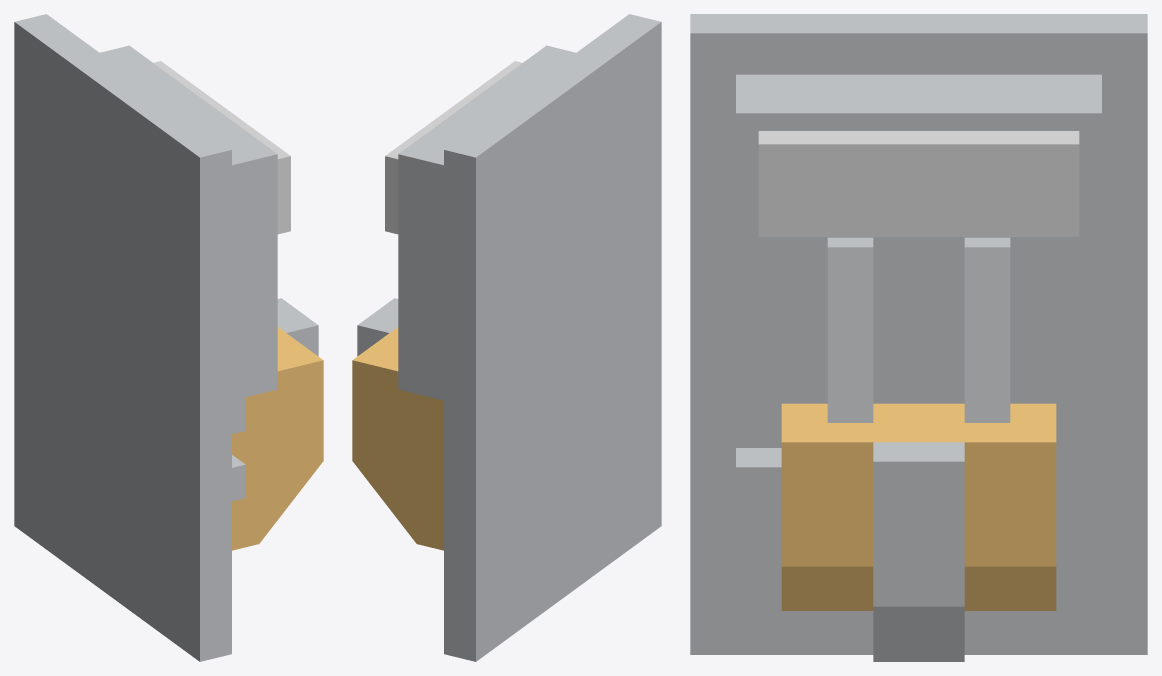
Rendered from switch-panel.fbx.
3 renders of one model, left to right at view 1: azimuth 30°, elevation 25°; view 2: azimuth 150°, elevation 25°; view 3: azimuth 270°, elevation 25°, orthographic. The views are drawn at different scales.
Parts seen in each view (by area): view 1: switch-mount, switch-button; view 2: switch-mount, switch-button; view 3: switch-mount, switch-button.
Boxes of the visible parts, bbox=[...] form: switch-mount: bbox=[14, 14, 323, 661]; switch-button: bbox=[153, 61, 290, 234]; switch-mount: bbox=[352, 14, 661, 661]; switch-button: bbox=[385, 61, 522, 234]; switch-mount: bbox=[690, 14, 1147, 661]; switch-button: bbox=[758, 131, 1079, 236].
Bounding box in the file's own units: 5.78 × 14.46 × 9.64.
